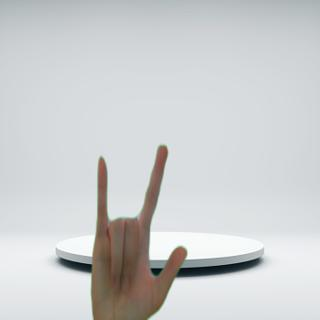ILY: (85, 142, 189, 320)
